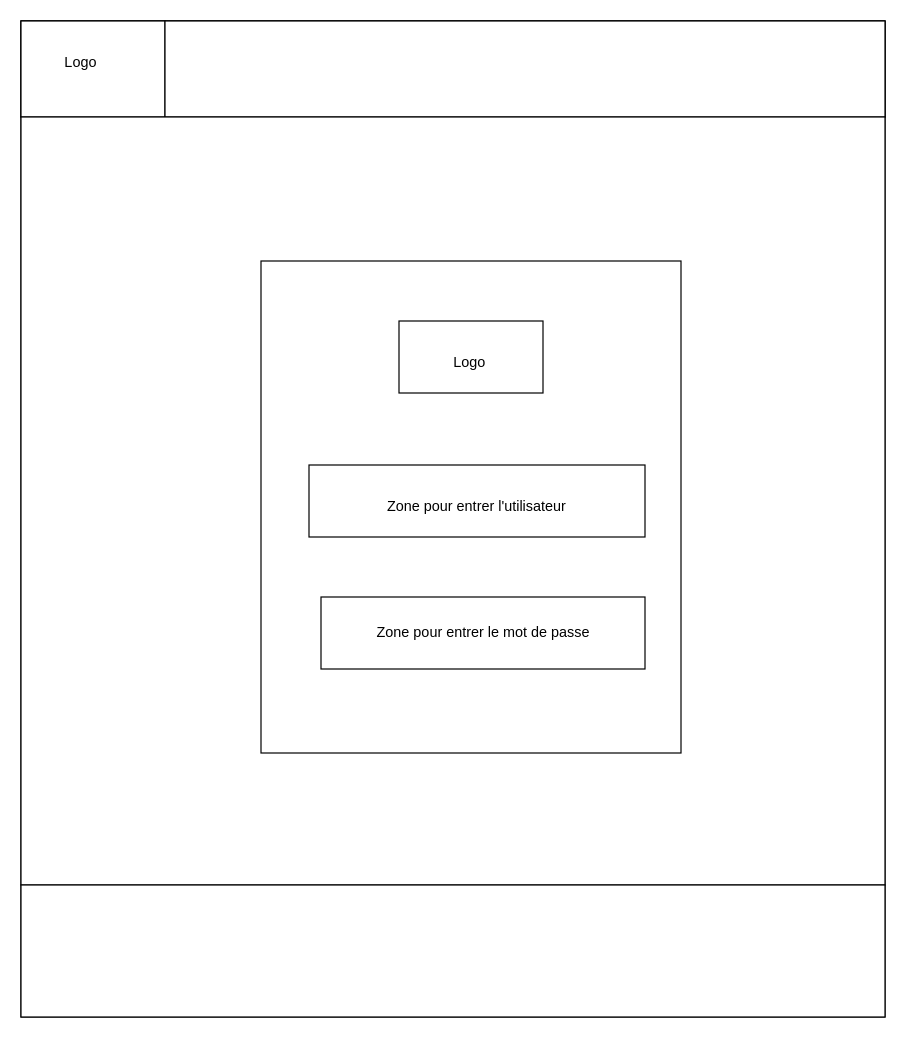
Image size: 906x1038. Some labels were removed from this diagram. The box of each missing label's shape, as (x1, y1, x2, y2) in pixels:
footer: (20, 884, 885, 1017)
menu: (164, 20, 885, 117)
